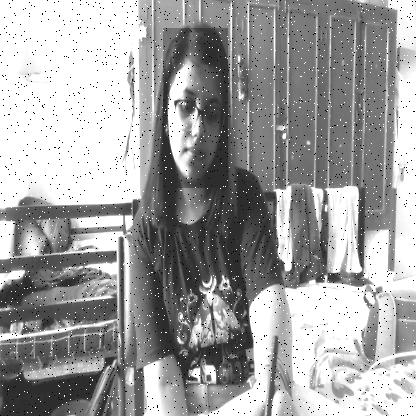Normal: (163, 28, 228, 188)
